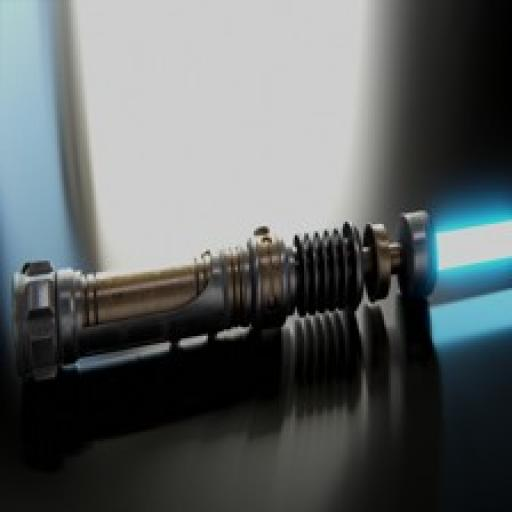lightsaber: (11, 217, 512, 378)
